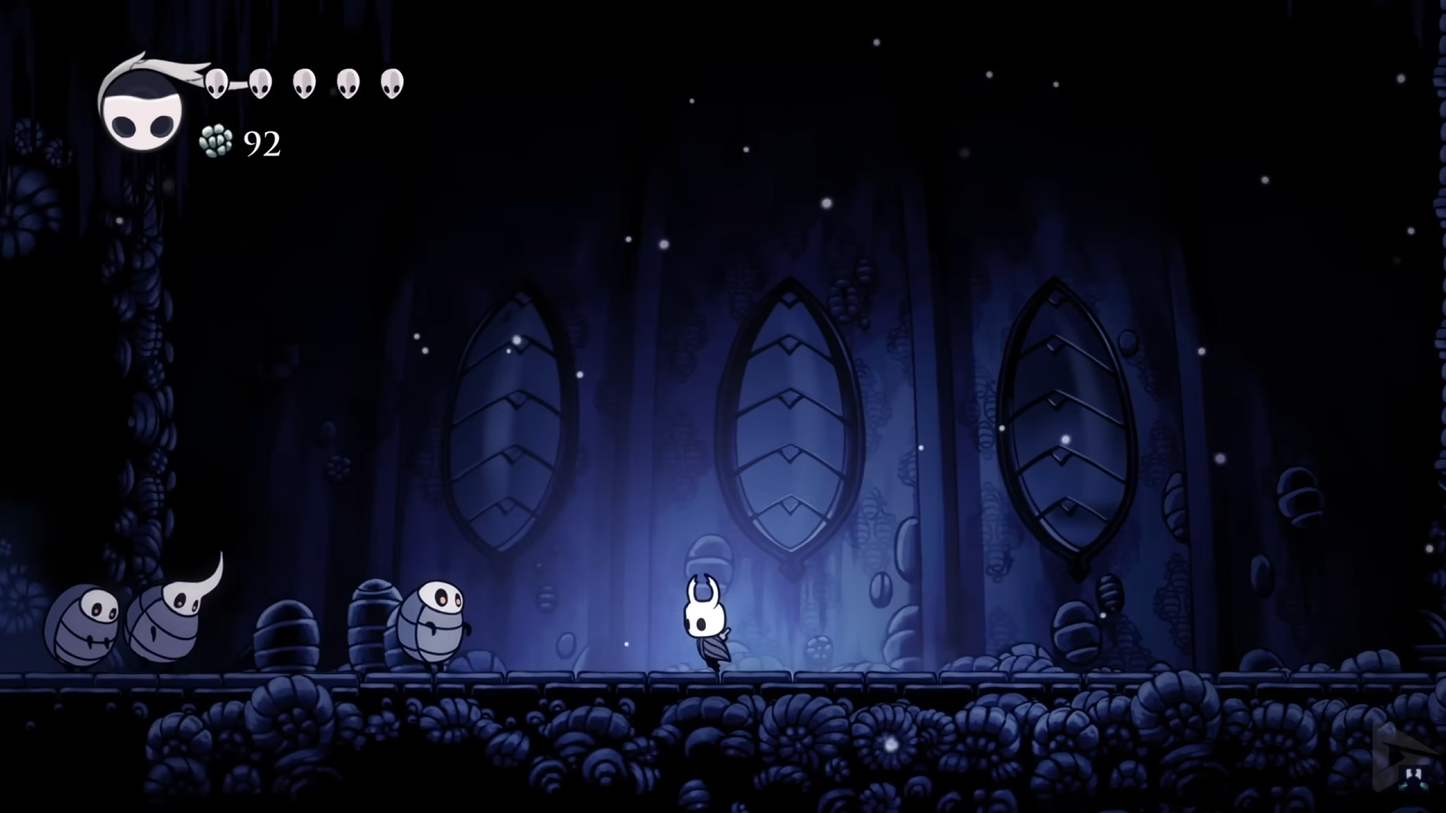HK: (669, 575, 741, 675)
